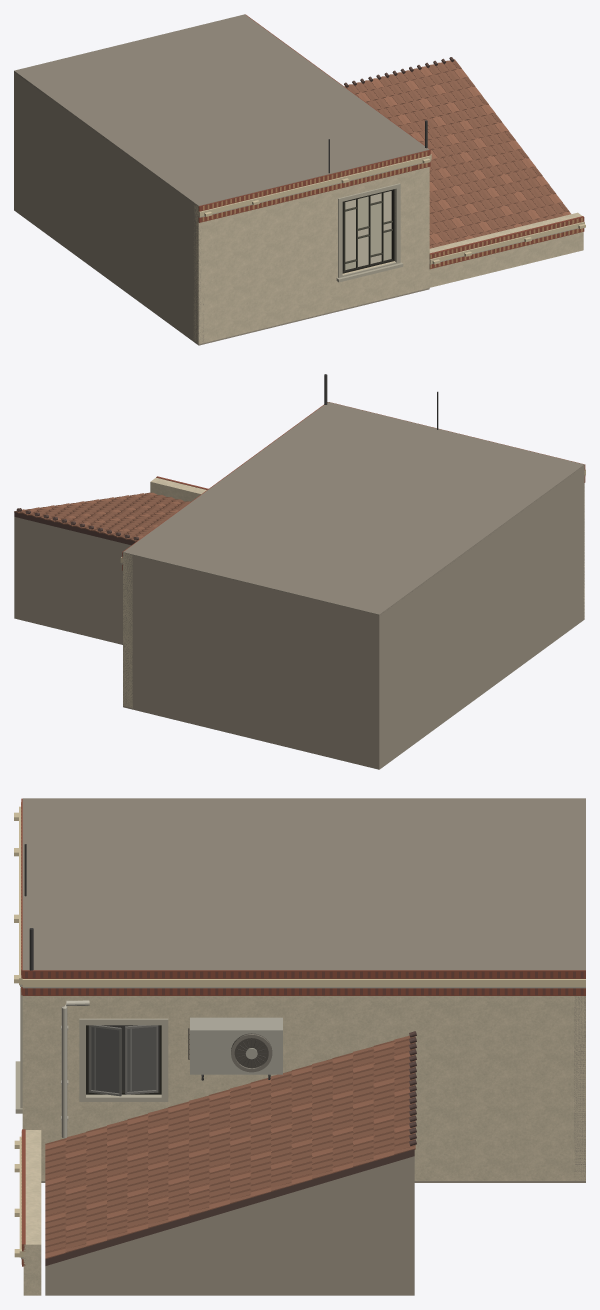
File: changning-yiding-village-roof-pavilion-web.glb
3 renders of one model, top to bottom at view 1: azimuth 30°, elevation 25°; view 2: azimuth 150°, elevation 25°; view 3: azimuth 270°, elevation 25°, orthographic. The views are drawn at different scales.
Visible parts, largest first — view 1: 忆定村江苏路495弄住宅屋顶方间与双道红砖檐带; view 2: 忆定村江苏路495弄住宅屋顶方间与双道红砖檐带; view 3: 忆定村江苏路495弄住宅屋顶方间与双道红砖檐带.
Boxes of the visible parts, x1,y1,x2,y2 form: 忆定村江苏路495弄住宅屋顶方间与双道红砖檐带: (14,14,585,345); 忆定村江苏路495弄住宅屋顶方间与双道红砖檐带: (14,374,585,769); 忆定村江苏路495弄住宅屋顶方间与双道红砖檐带: (14,798,585,1295).
Bounding box in the file's own units: 8.44 × 3.64 × 7.12.
Materials: 25 (1 with a texture image).
